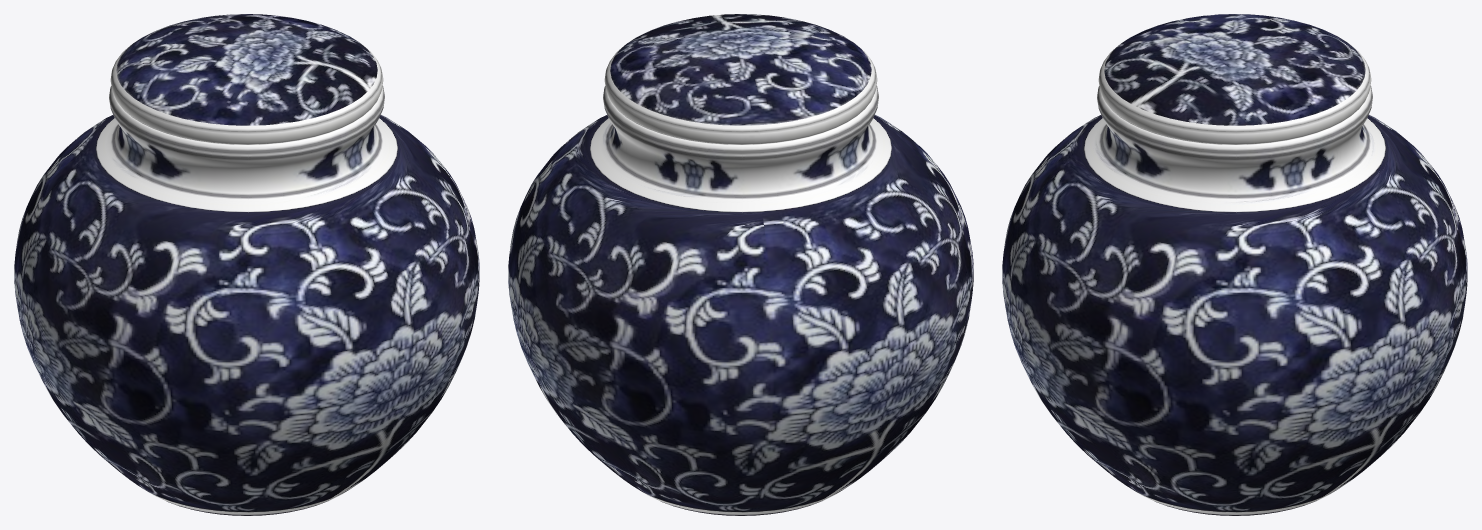
Rendered from Pot7.fbx.
3 views of the same model, side by side, from view 1: azimuth 30°, elevation 25°; view 2: azimuth 150°, elevation 25°; view 3: azimuth 270°, elevation 25° (orthographic).
Parts seen in each view (by area): view 1: Jar.002; view 2: Jar.002; view 3: Jar.002.
Boxes of the visible parts, x1,y1,x2,y2 form: Jar.002: [14, 14, 479, 515]; Jar.002: [508, 14, 973, 515]; Jar.002: [1002, 14, 1467, 515].
Bounding box in the file's own units: 10.64 × 10.72 × 10.64.
Materials: 1 (1 with a texture image).
